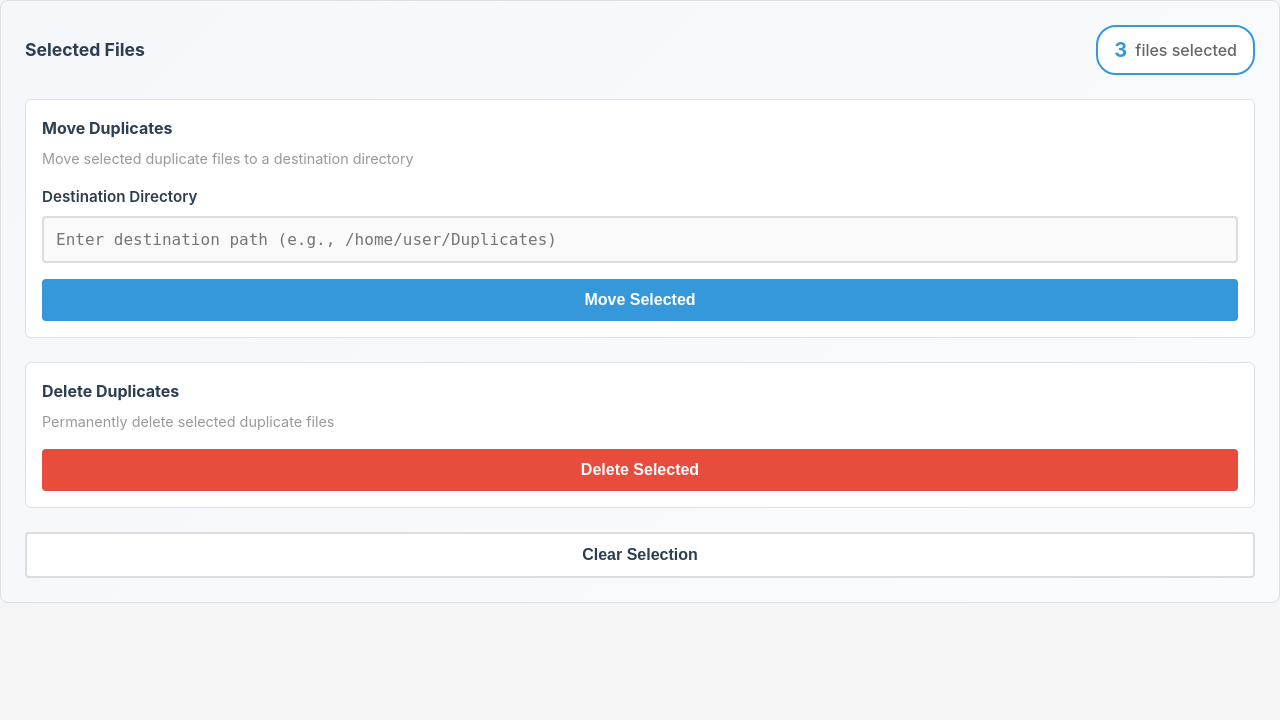
Test: ActionsPanel Component (smoke tests) › move requires destination and shows error
Click the button "Move Selected": coordinates (640, 300) x1=42 y1=279 x2=1238 y2=321
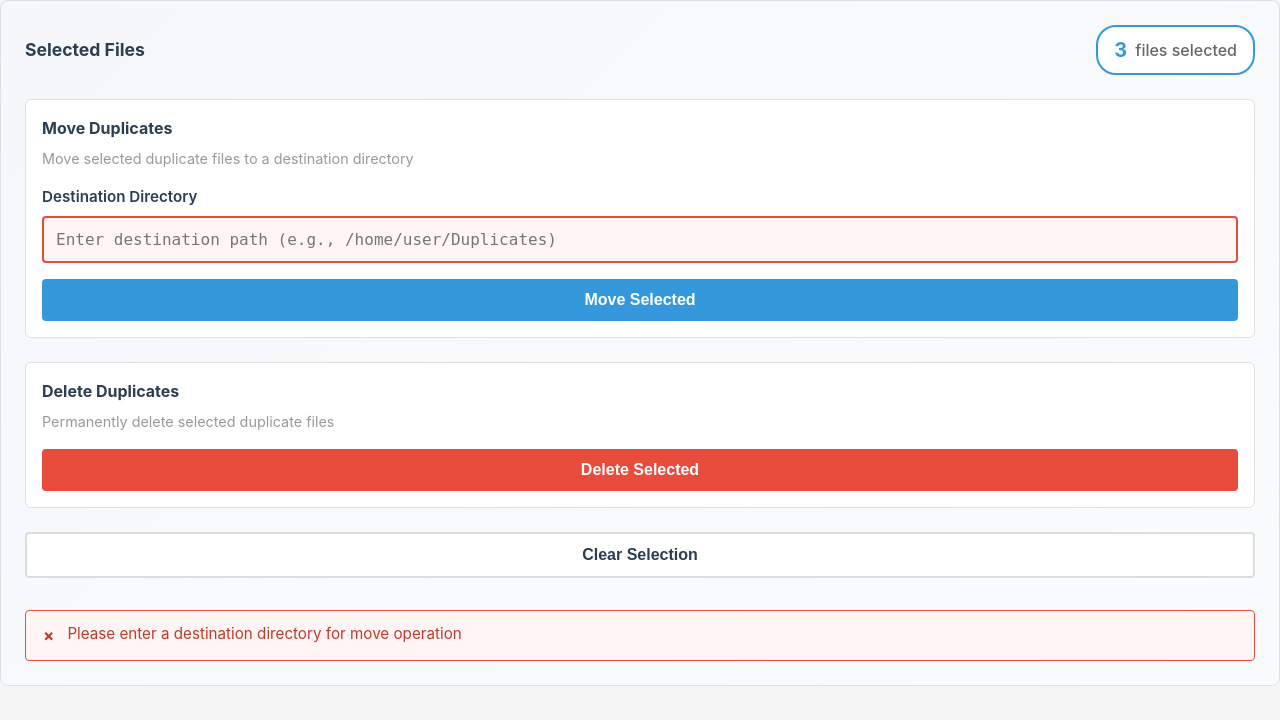
Expected: the message "✗ Please enter a destination directory for move operation" is shown, x1=25 y1=610 x2=1255 y2=661
